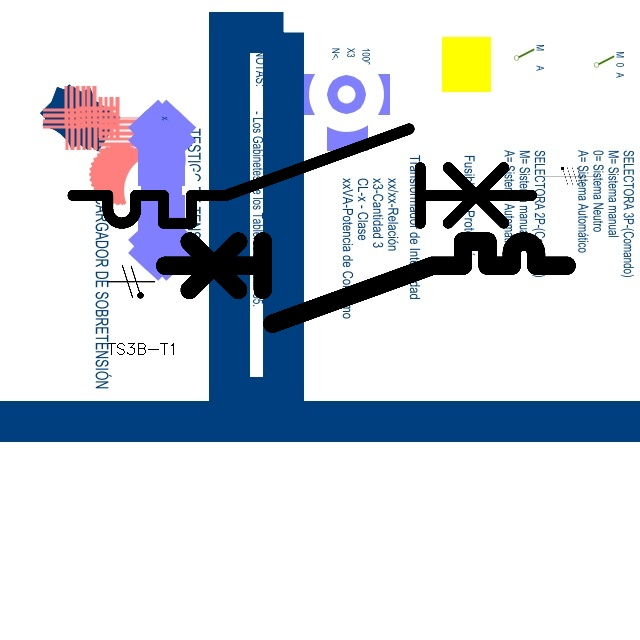interruptor_termomagnetico: (61, 117, 543, 235), (154, 231, 576, 334)
